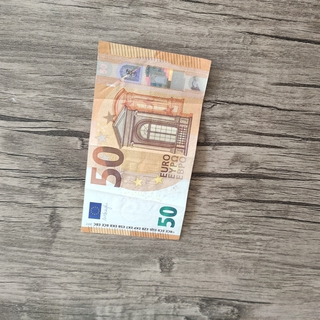50EUROFront: (79, 39, 212, 242)
